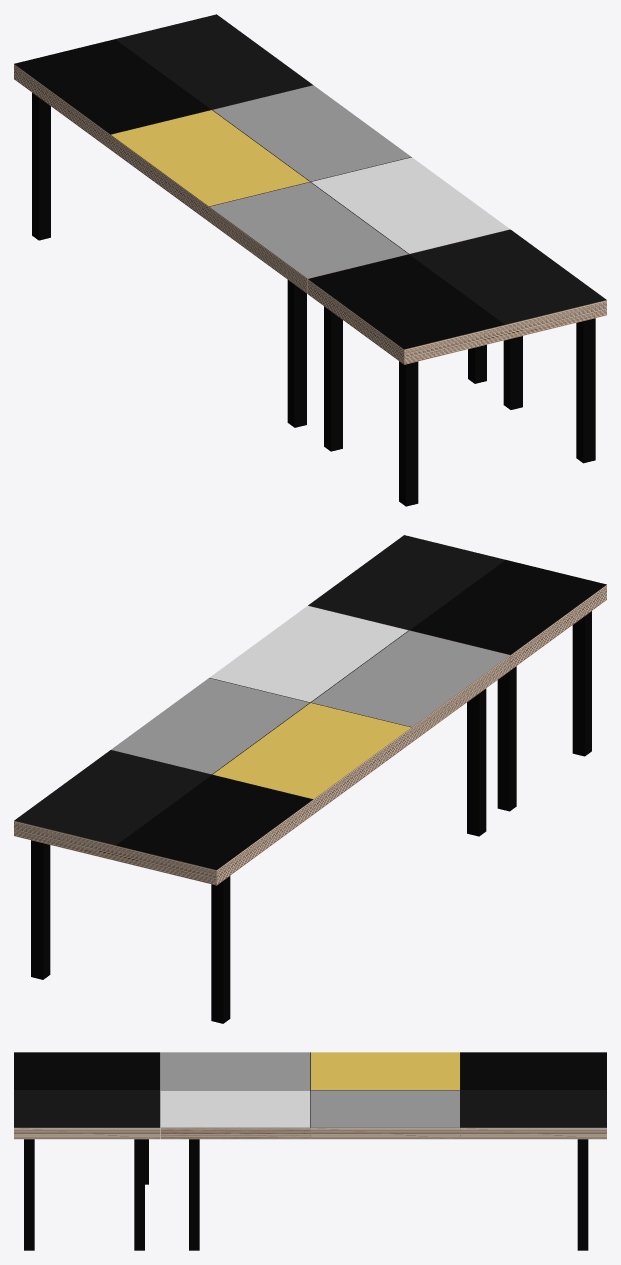
The model's file is mdl_table_printer.glb.
3 views of the same model, one above another, from view 1: azimuth 30°, elevation 25°; view 2: azimuth 150°, elevation 25°; view 3: azimuth 270°, elevation 25° (orthographic). The views are drawn at different scales.
Visible parts, largest first — view 1: Cube, Cube.007, Cube.006, Cube.002, Cube.004, Cube.008, Cube.005, Cube.001; view 2: Cube, Cube.004, Cube.002, Cube.007, Cube.008, Cube.003; view 3: Cube, Cube.003, Cube.001, Cube.005, Cube.006.
Part boxes in pixels (x1,y1,x2,y2): Cube: [14, 14, 606, 364]; Cube.007: [399, 361, 418, 506]; Cube.006: [576, 318, 595, 463]; Cube.002: [287, 280, 306, 427]; Cube.004: [32, 92, 50, 240]; Cube.008: [324, 306, 342, 451]; Cube.005: [503, 336, 522, 409]; Cube.001: [468, 344, 486, 383]; Cube: [14, 535, 606, 885]; Cube.004: [211, 876, 230, 1023]; Cube.002: [467, 688, 486, 836]; Cube.007: [572, 611, 591, 756]; Cube.008: [497, 666, 516, 811]; Cube.003: [31, 840, 50, 979]; Cube: [14, 1052, 606, 1139]; Cube.003: [577, 1139, 588, 1250]; Cube.001: [189, 1139, 199, 1250]; Cube.005: [134, 1139, 144, 1250]; Cube.006: [24, 1139, 34, 1250].
Bounding box in the file's own units: 1.17 × 0.905 × 3.9.
7 materials, 2 textured.
